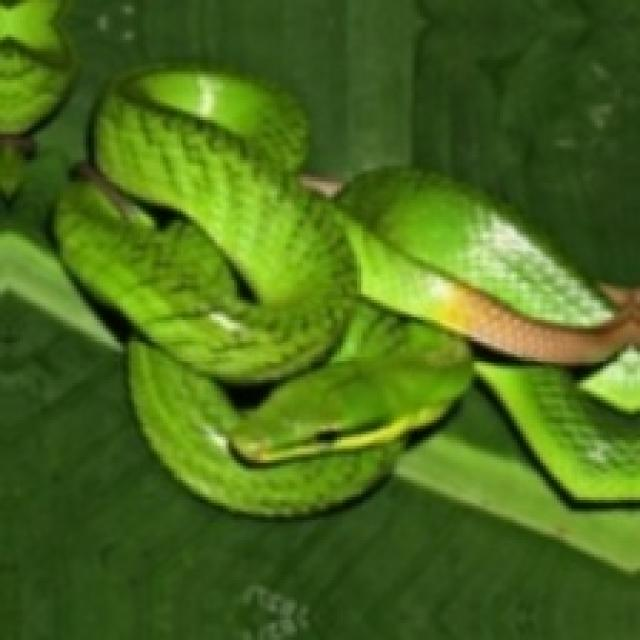red-tailed green ratsnake: (54, 66, 637, 514)
